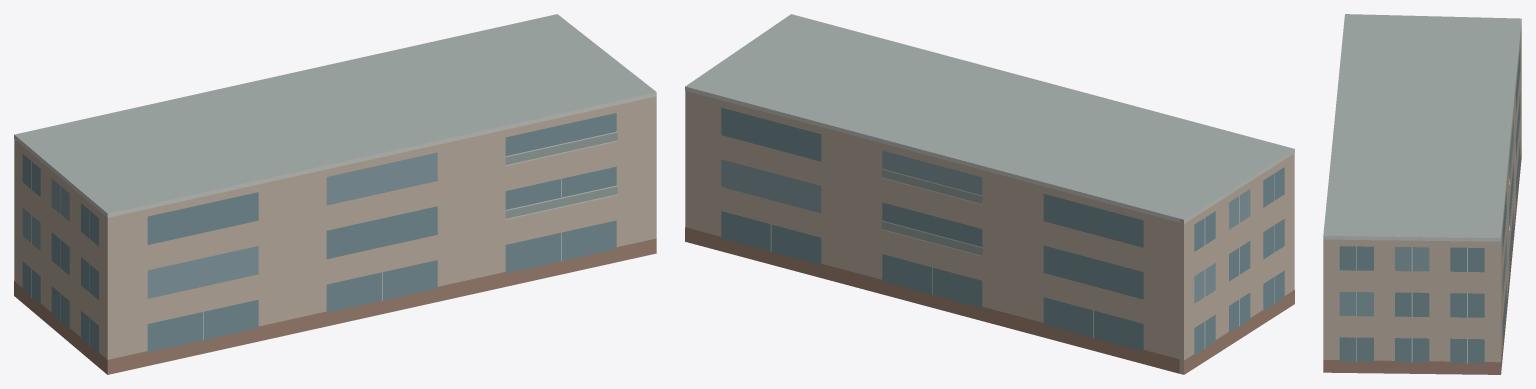
Rendered from survey-upis-32511773.glb.
The picture shows the model from 3 angles, left to right: view 1: azimuth 30°, elevation 25°; view 2: azimuth 150°, elevation 25°; view 3: azimuth 270°, elevation 25°; orthographic projection. The views are drawn at different scales.
Parts seen in each view (by area): view 1: survey-upis-32511773.tmp; view 2: survey-upis-32511773.tmp; view 3: survey-upis-32511773.tmp.
Boxes of the visible parts, x1=… form: survey-upis-32511773.tmp: x1=14, y1=14, x2=656, y2=374; survey-upis-32511773.tmp: x1=685, y1=14, x2=1294, y2=374; survey-upis-32511773.tmp: x1=1323, y1=14, x2=1521, y2=374.
Size of the model in its own units: 32.17 by 9.15 by 12.04.
